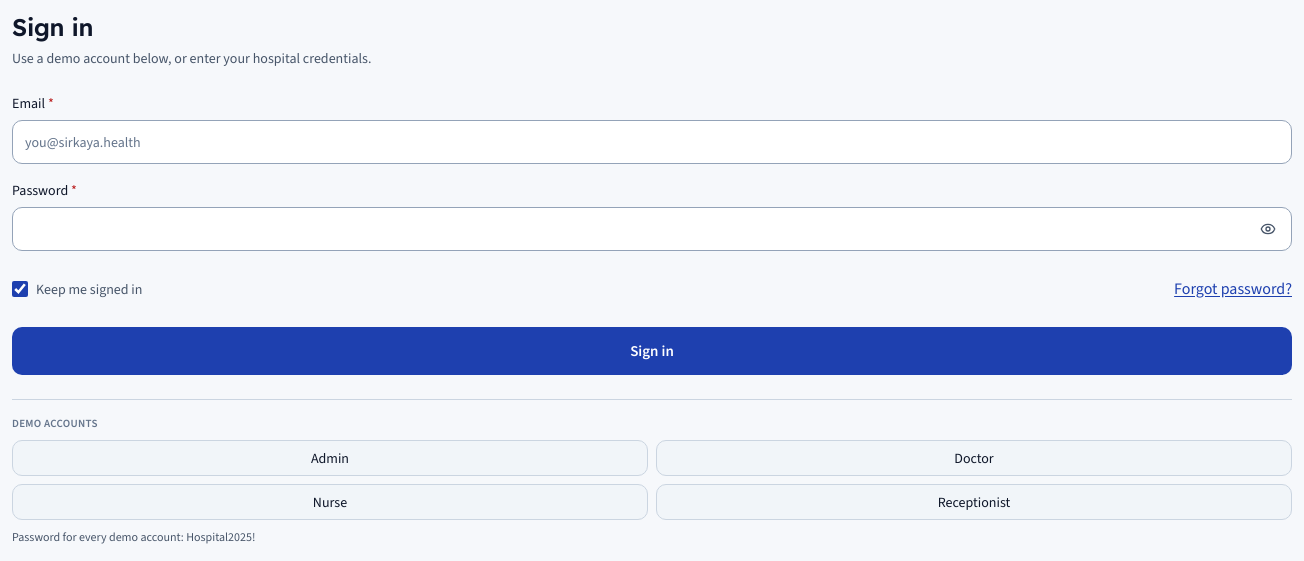
Scenario: SignInPage › fills credentials from a demo account button
Step 1. Click the button "Admin" → (330, 458), box [12, 440, 648, 476]
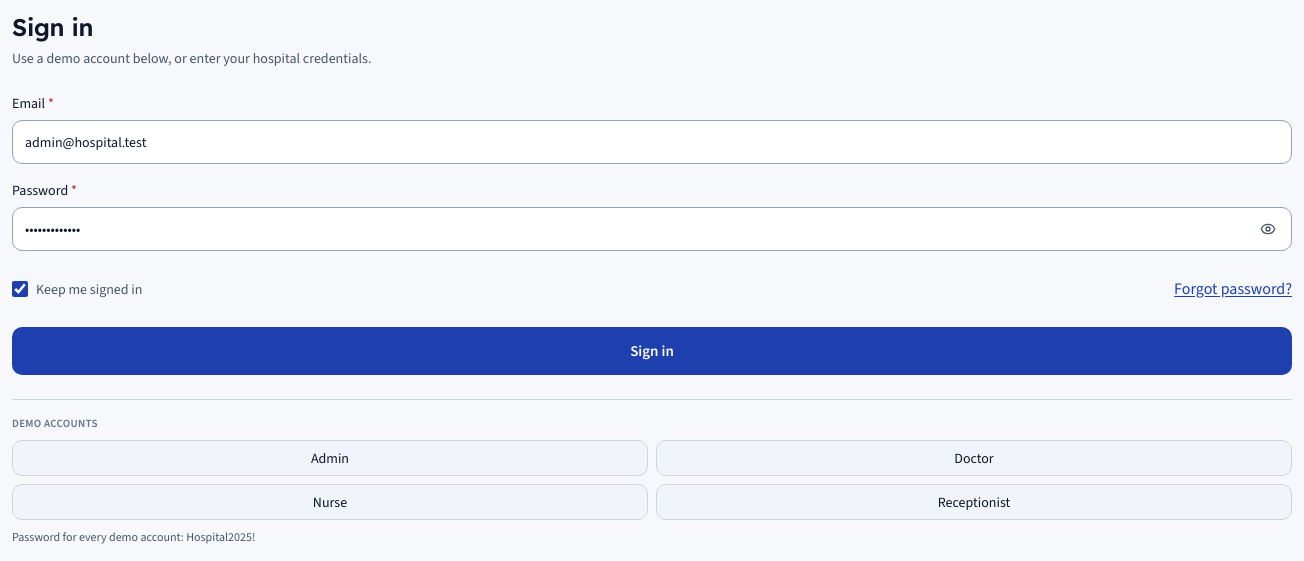
Expected: the field labelled "Email *" holds "admin@hospital.test", [12, 120, 1292, 164]
Expected: the password field labelled "Password *" holds "Hospital2025!", [12, 207, 1292, 251]
